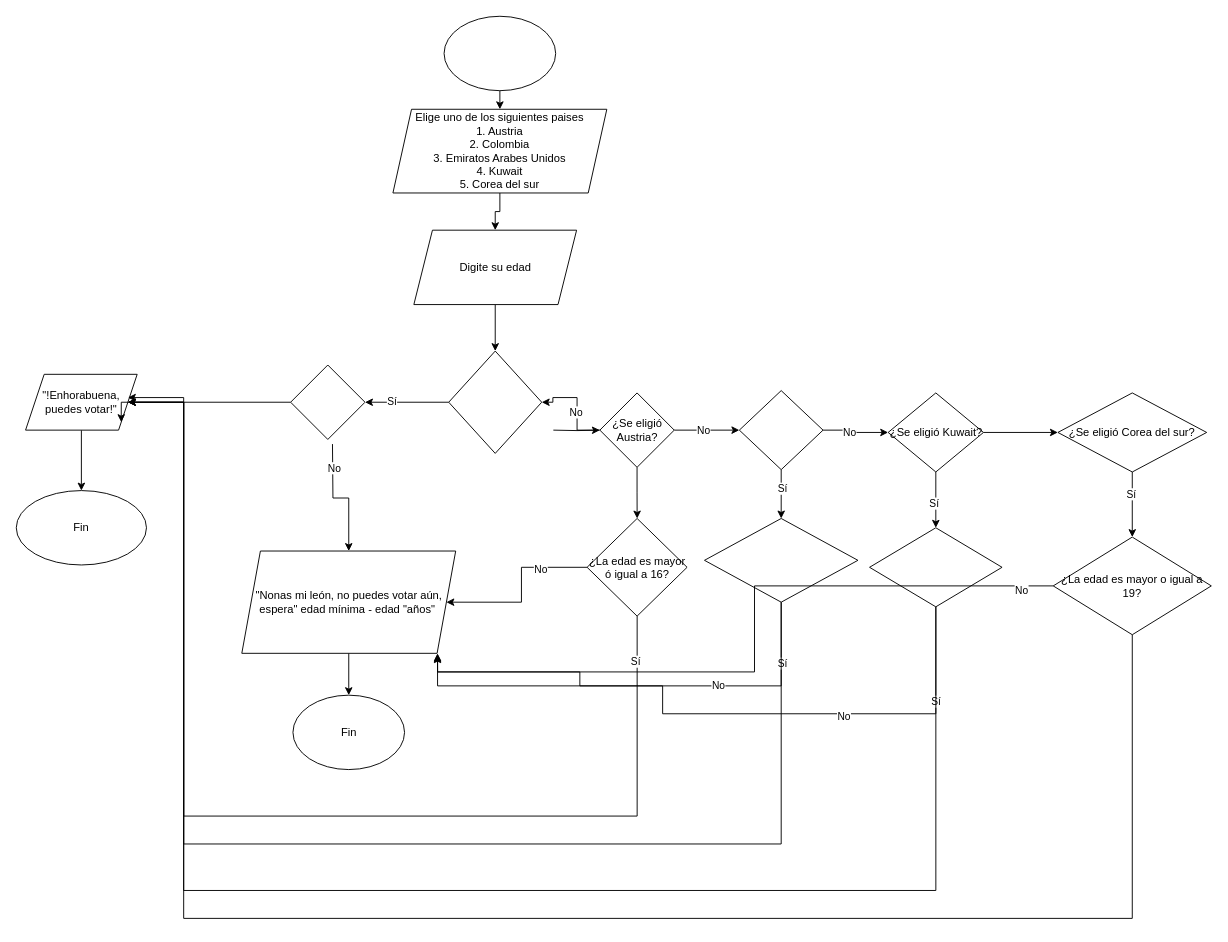
This 1228x942 diagram has some shape labels left out. Each missing label, with the centre of its shape:
Inicio: the point at 499,53
¿La edad es mayor o igual a 21?: the point at 935,567
¿La edad es mayor o igual a 25?: the point at 781,560
¿La edad es mayor ó igual a 18?: the point at 327,401
¿Se eligió Colombia?: the point at 495,401
¿Se eligió EAU ?: the point at 780,430
